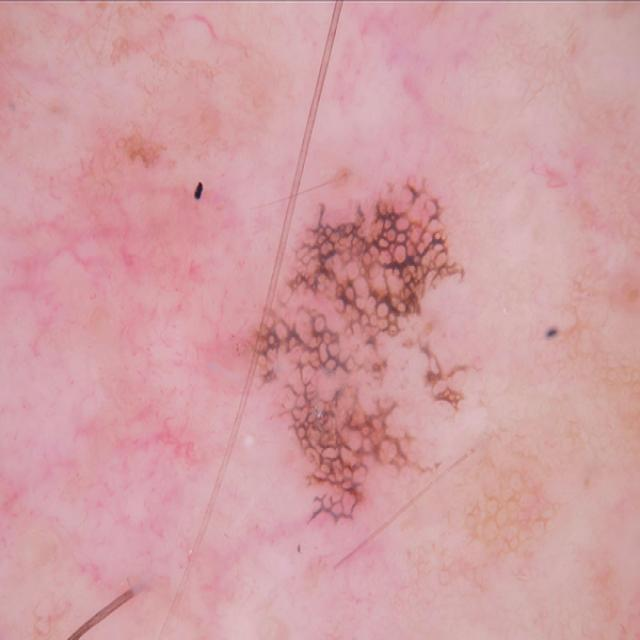Skin-Cancer Pigmented benign keratosis: (80, 58, 597, 599)
